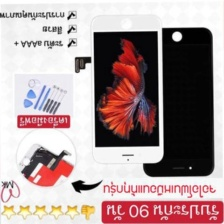phone: (138, 23, 216, 181), (88, 11, 165, 166)
